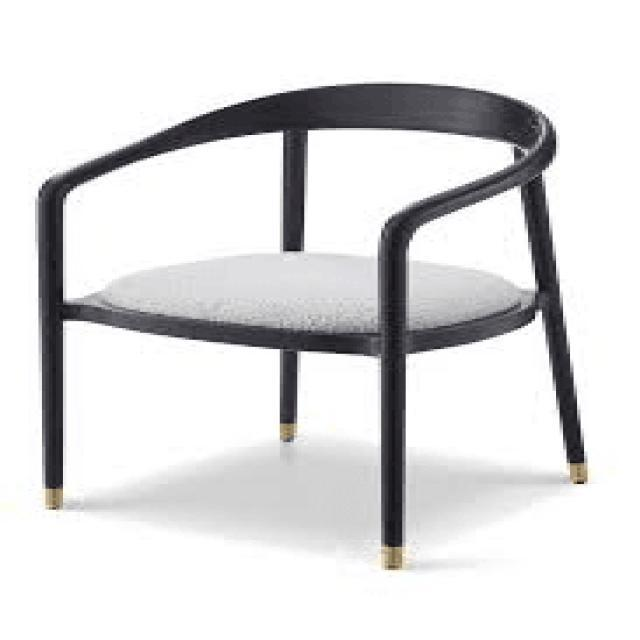chair: (23, 78, 600, 575), (38, 82, 556, 308)
